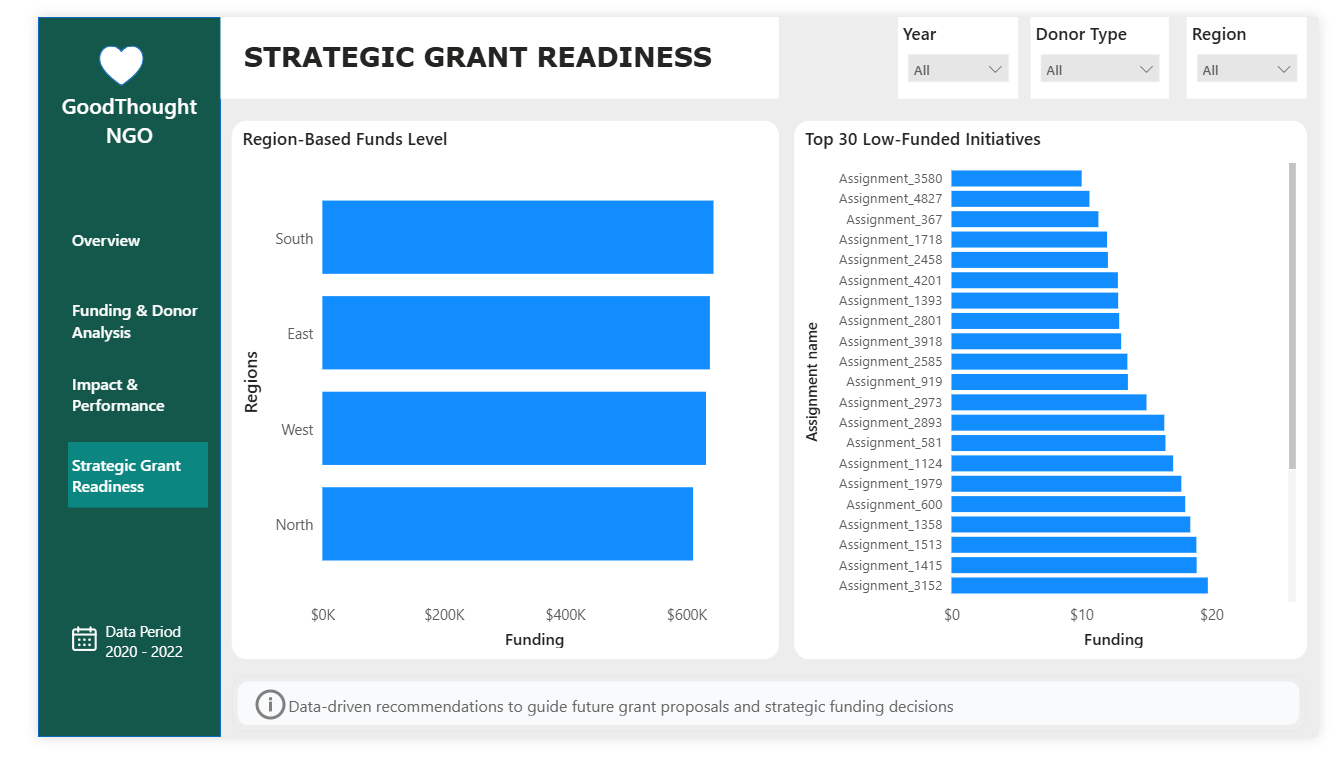

The page's visual inventory and layout, read from the dashboard file:
{"tool":"powerbi","page":{"name":"Strategic Grant Readiness","canvas":[1280,720],"ordinal":3},"visuals":[{"type":"shape","box":[0,0,182.9,720],"z":0},{"type":"shape","box":[61.4,28.2,44.3,40],"z":1000},{"type":"textbox","box":[0,68.2,182.9,71.4],"z":2000},{"type":"slicer","fields":{"Values":["public donations.Year"]},"box":[860,0,120,81.4],"z":3000},{"type":"slicer","fields":{"Values":["public donors.donor_type"]},"box":[992.9,0,138.6,81.4],"z":4000},{"type":"slicer","fields":{"Values":["public assignments.region"]},"box":[1148.6,0,120,81.4],"z":5000},{"type":"actionButton","box":[30,194.3,130,57.1],"z":6000},{"type":"actionButton","box":[30,274.5,135.7,55.7],"z":7000},{"type":"actionButton","box":[30,351.7,130,51.4],"z":8000},{"type":"actionButton","box":[30,424.5,140,65.7],"z":9000},{"type":"textbox","box":[62.9,598.6,90,50],"z":10000},{"type":"image","box":[30,601.4,32.9,41.4],"z":11000},{"type":"shape","box":[194.3,658.6,1074.3,55.7],"z":12000},{"type":"actionButton","box":[212.9,667.1,707.1,40],"z":13000},{"type":"textbox","box":[182.9,0,558.6,81.4],"z":14000},{"type":"clusteredBarChart","title":"Region-Based Funds Level","fields":{"Category":["public assignments.region"],"Y":["public donations.Regional Funding"]},"box":[194.3,104.3,547.1,538.6],"z":15000},{"type":"clusteredBarChart","title":"Top 30 Low-Funded Initiatives","fields":{"Category":["public assignments.assignment_name"],"Y":["public donations.Total Funding"]},"box":[755.7,104.3,512.9,538.6],"z":15001}]}

Visuals, with their boxes in screenshot pixels (x1, y1, x2, y2), scaled from the page's 1280x720 canvas onto the 1343x760 screenshot:
shape: Rect(0, 0, 192, 759)
shape: Rect(64, 30, 111, 72)
textbox: Rect(0, 72, 192, 147)
slicer - public donations.Year: Rect(902, 0, 1028, 86)
slicer - public donors.donor_type: Rect(1042, 0, 1187, 86)
slicer - public assignments.region: Rect(1205, 0, 1331, 86)
actionButton: Rect(31, 205, 168, 265)
actionButton: Rect(31, 290, 174, 349)
actionButton: Rect(31, 371, 168, 425)
actionButton: Rect(31, 448, 178, 517)
textbox: Rect(66, 632, 160, 685)
image: Rect(31, 635, 66, 679)
shape: Rect(204, 695, 1331, 754)
actionButton: Rect(223, 704, 965, 746)
textbox: Rect(192, 0, 778, 86)
"Region-Based Funds Level" clusteredBarChart: Rect(204, 110, 778, 679)
"Top 30 Low-Funded Initiatives" clusteredBarChart: Rect(793, 110, 1331, 679)
